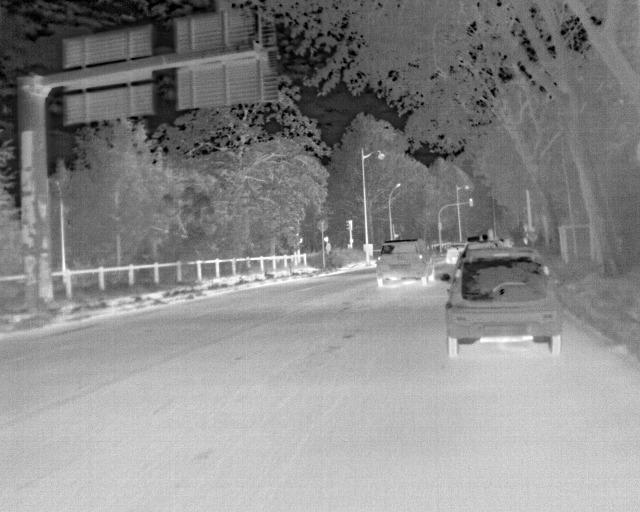car: (440, 247, 562, 357), (376, 238, 435, 286), (462, 235, 498, 252), (445, 245, 467, 264)
light: (346, 220, 351, 231), (469, 198, 473, 206), (438, 223, 442, 230), (323, 237, 328, 242)
sign: (173, 6, 278, 109), (62, 26, 155, 125), (317, 219, 328, 232), (363, 244, 373, 256), (326, 243, 331, 252)
